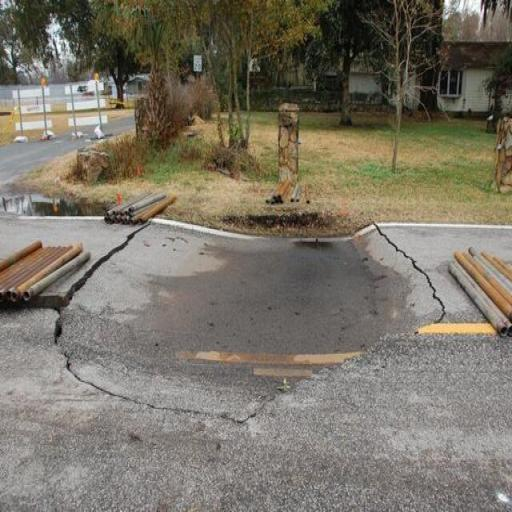Concentric_Crack: (55, 219, 445, 422)
